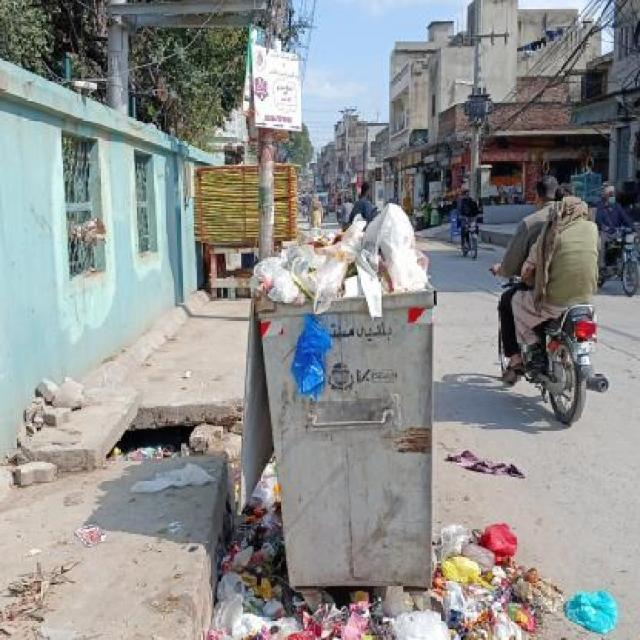garbage: (253, 202, 432, 300), (431, 520, 564, 637), (214, 586, 432, 639), (217, 437, 274, 568), (112, 426, 216, 461), (441, 445, 534, 482), (563, 588, 620, 636)
